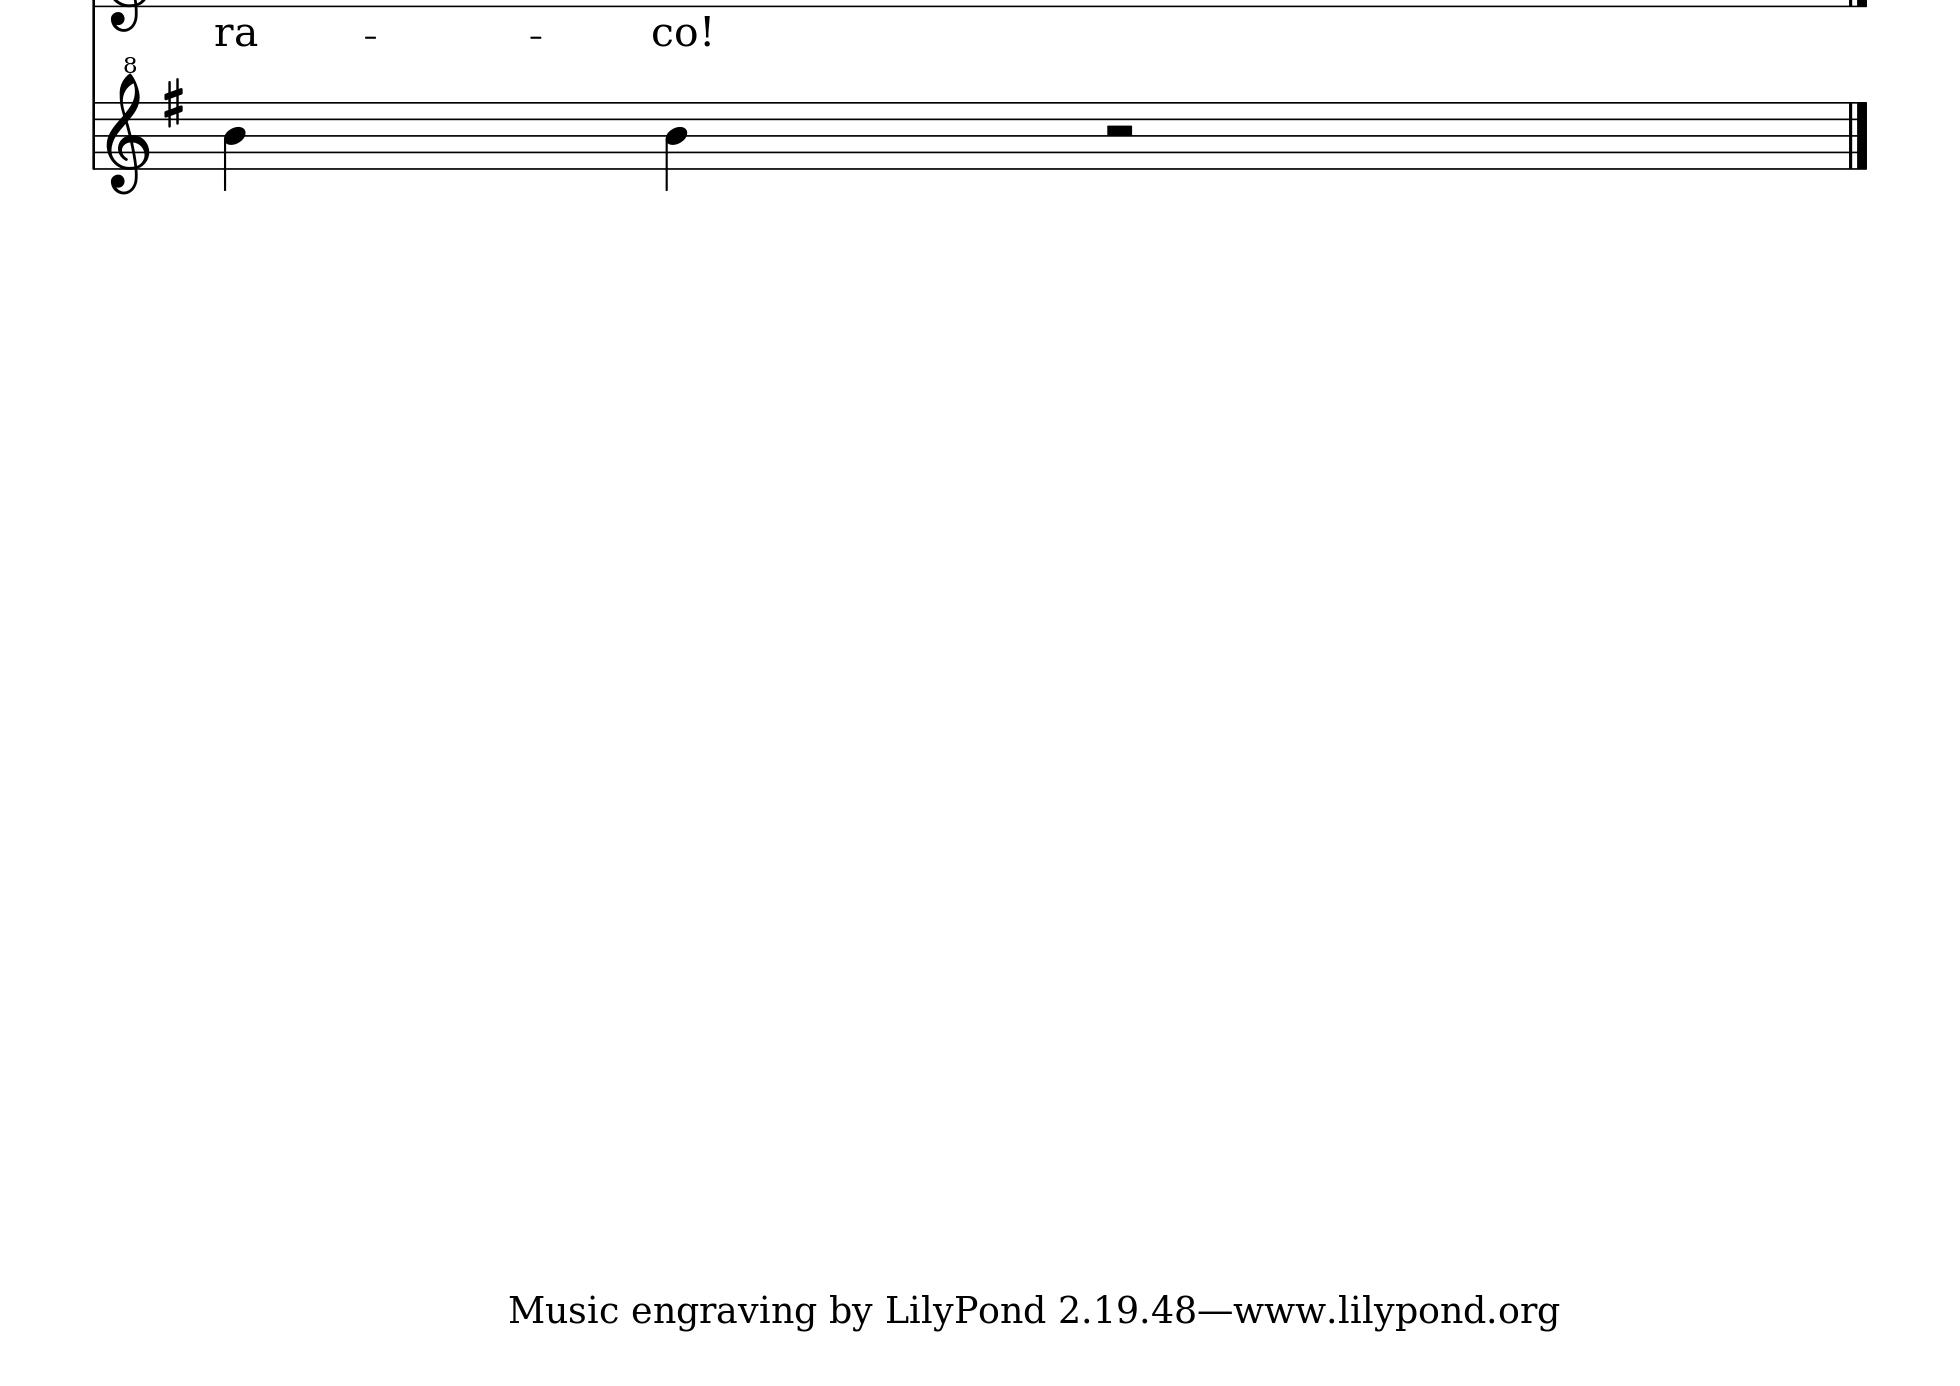4_4: (222, 100, 246, 192), (664, 100, 688, 192)
Final_barline: (1843, 100, 1870, 169)
High_Gclef: (105, 55, 148, 195)
Rests2: (1102, 123, 1137, 139)
Sharp: (160, 76, 187, 130)
Single_barline: (87, 103, 100, 168)
